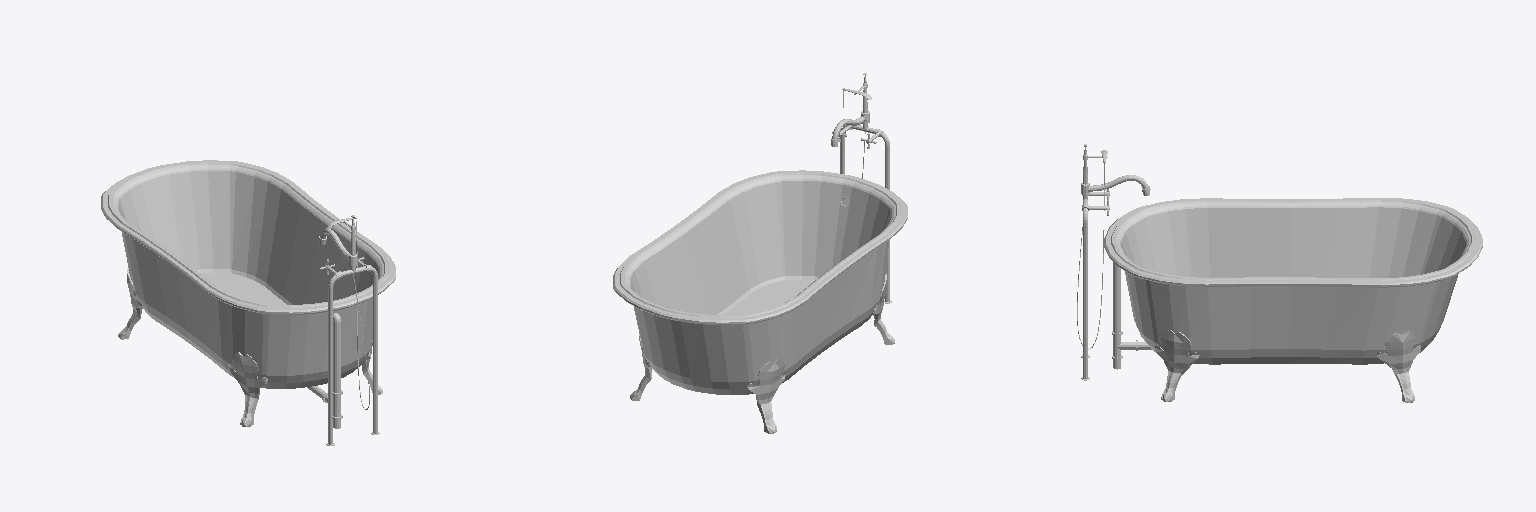
Rendered from bathtub.obj.
3 renders of one model, left to right at view 1: azimuth 30°, elevation 25°; view 2: azimuth 150°, elevation 25°; view 3: azimuth 270°, elevation 25°, orthographic.
Parts seen in each view (by area): view 1: tub, facuet, tub_leg02, pipes, tub_leg03; view 2: tub, facuet, tub_leg03; view 3: tub, facuet, tub_leg01, tub_leg, pipes.
Boxes of the visible parts, box(x1,y1,x2,y2) form: tub: box(101, 160, 395, 388); facuet: box(319, 215, 379, 445); tub_leg02: box(229, 352, 267, 426); pipes: box(307, 313, 342, 428); tub_leg03: box(118, 269, 142, 339); tub: box(613, 170, 907, 394); facuet: box(831, 73, 891, 303); tub_leg03: box(747, 359, 785, 433); tub: box(1104, 198, 1482, 364); facuet: box(1077, 144, 1150, 380); tub_leg01: box(1155, 330, 1199, 401); tub_leg: box(1377, 331, 1420, 402); pipes: box(1112, 253, 1151, 369).
Bounding box in the file's own units: 39.08 × 47.08 × 77.33.